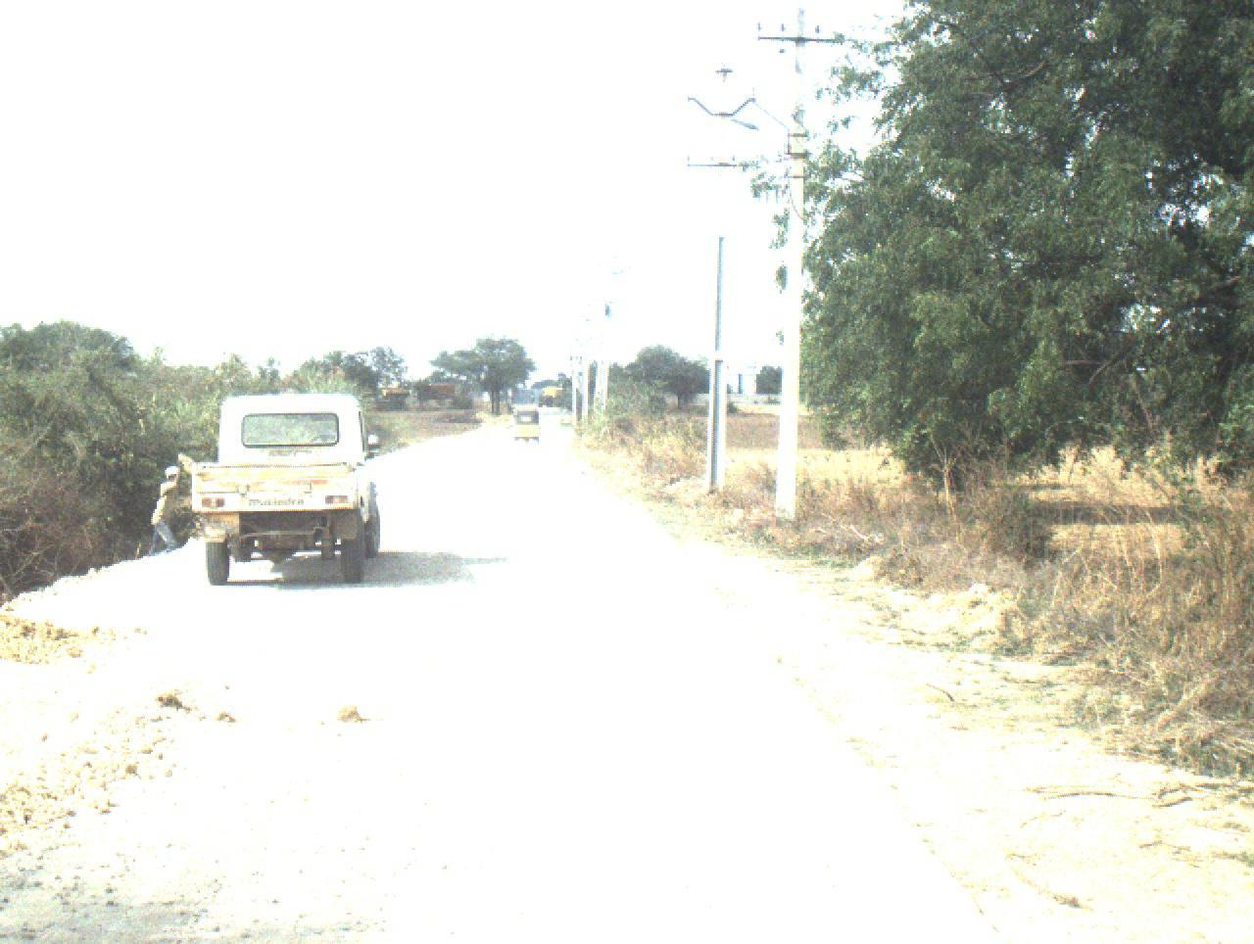streetlight: (727, 115, 809, 163)
